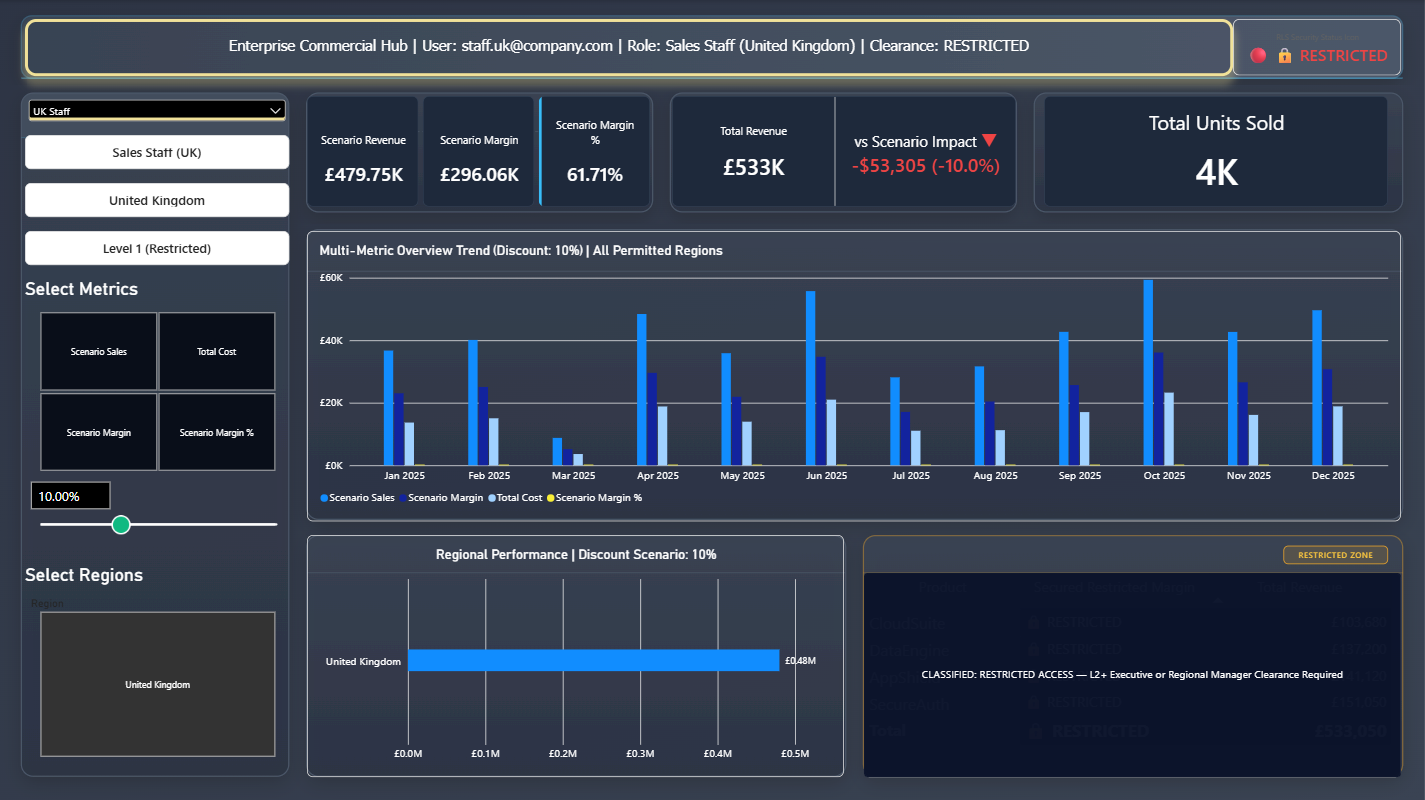

What the dashboard file says about the page in this screenshot:
{"tool":"powerbi","page":{"name":"Page 1","canvas":[1920,1080],"ordinal":0},"visuals":[{"type":"card","fields":{"Values":["Key Measures.Top Governance Banner"]},"box":[33.7,25.6,1626.7,76.8],"z":0},{"type":"slicer","title":"Select Metrics","fields":{"Values":["Metric Parameter.Metric Parameter"]},"box":[33.7,375.7,355.5,260],"z":1000},{"type":"slicer","fields":{"Values":["Discount Scenario.Discount Rate"]},"box":[33.7,643.9,355.5,109.1],"z":2000},{"type":"clusteredColumnChart","fields":{"Category":["DimDate.Month"],"Y":["Key Measures.Scenario Sales","Key Measures.Scenario Margin","Key Measures.Total Cost","Key Measures.Scenario Margin %"]},"box":[413.4,311.1,1473.2,390.5],"z":3000},{"type":"slicer","title":"Select Regions","fields":{"Values":["DimRegion.Region"]},"box":[33.7,761.2,355.5,260],"z":4000},{"type":"cardVisual","fields":{"Data":["Key Measures.RLS Security Status Icon"]},"box":[1660.4,25.6,226.2,76.8],"z":5000},{"type":"cardVisual","fields":{"Data":["Key Measures.Scenario Sales","Key Measures.Scenario Margin","Key Measures.Scenario Margin %"]},"box":[413.4,129.3,463.2,149.5],"z":6000},{"type":"cardVisual","fields":{"Data":["Key Measures.Total Revenue"]},"box":[904.9,129.3,463.2,149.5],"z":7000},{"type":"cardVisual","fields":{"Data":["Key Measures.Total Units Sold"]},"box":[1405.9,129.3,463.2,149.5],"z":8000},{"type":"pivotTable","fields":{"Rows":["FactSales.Product"],"Values":["Key Measures.Secured Restricted Margin","Key Measures.Total Revenue"]},"box":[1163.5,771.6,723.1,274.7],"z":9000},{"type":"actionButton","title":"Security Overlay Shield","box":[1163.5,771.6,723.1,274.7],"z":10000},{"type":"clusteredBarChart","fields":{"Category":["DimRegion.Region"],"Y":["Key Measures.Scenario Sales"]},"box":[413.4,720.4,723.1,325.9],"z":11000},{"type":"slicer","fields":{"Values":["Persona Table.PersonName"]},"box":[33.7,129.3,355.5,61.9],"z":12000},{"type":"card","fields":{"Values":["Key Measures.Display Role"]},"box":[33.7,181.8,355.5,45.8],"z":13000},{"type":"card","fields":{"Values":["Key Measures.Display Scope"]},"box":[33.7,246.4,355.5,45.8],"z":14000},{"type":"card","fields":{"Values":["Key Measures.Display Clearance"]},"box":[33.7,311.1,355.5,45.8],"z":15000}]}

Visuals, with their boxes in screenshot pixels (x1, y1, x2, y2), scaled from the page's 1920x1080 canvas onto the 1425x800 screenshot:
card - Key Measures.Top Governance Banner: (25,19,1232,76)
"Select Metrics" slicer: (25,278,289,471)
slicer - Discount Scenario.Discount Rate: (25,477,289,558)
clusteredColumnChart - DimDate.Month x Key Measures.Scenario Sales: (307,230,1400,520)
"Select Regions" slicer: (25,564,289,756)
cardVisual - Key Measures.RLS Security Status Icon: (1232,19,1400,76)
cardVisual - Key Measures.Scenario Sales x Key Measures.Scenario Margin: (307,96,651,207)
cardVisual - Key Measures.Total Revenue: (672,96,1015,207)
cardVisual - Key Measures.Total Units Sold: (1043,96,1387,207)
pivotTable - FactSales.Product x Key Measures.Secured Restricted Margin: (864,572,1400,775)
"Security Overlay Shield" actionButton: (864,572,1400,775)
clusteredBarChart - DimRegion.Region x Key Measures.Scenario Sales: (307,534,843,775)
slicer - Persona Table.PersonName: (25,96,289,142)
card - Key Measures.Display Role: (25,135,289,169)
card - Key Measures.Display Scope: (25,183,289,216)
card - Key Measures.Display Clearance: (25,230,289,264)
